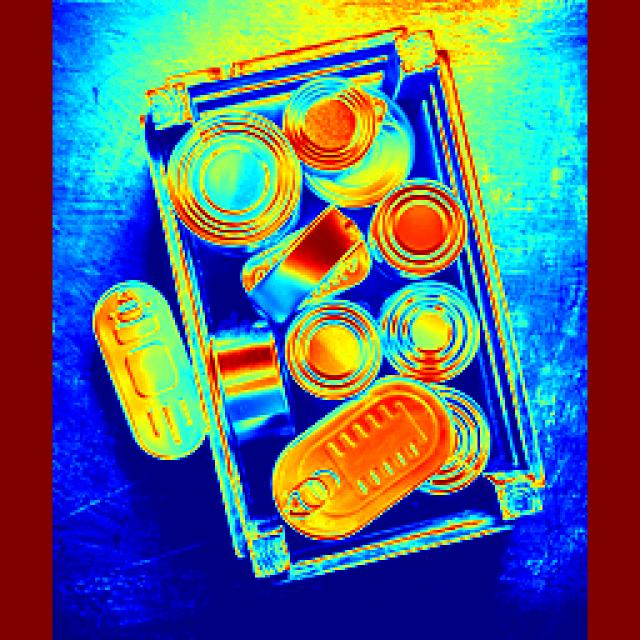Aluminium Food Cans: (83, 277, 211, 495), (279, 386, 443, 548), (164, 123, 306, 263), (289, 98, 400, 212), (375, 184, 482, 288), (278, 301, 390, 400), (252, 218, 373, 308), (386, 274, 468, 388)
